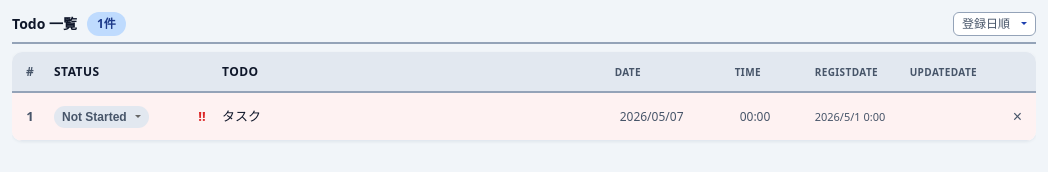
Test: TodoTable - date/time auto-format and validation (US-016) › auto-formats hhmm to hh:mm on blur
Replace the text in the 2nd field with "1430" at (769, 117), box x1=735 y1=103 x2=803 y2=130
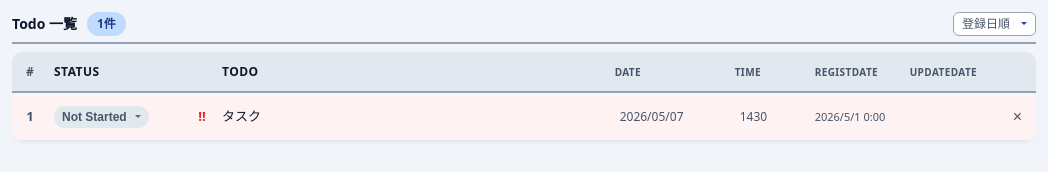
Leave the 2nd field, box x1=735 y1=103 x2=803 y2=130
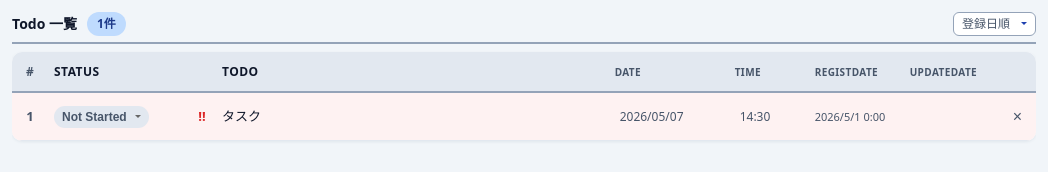
Check: the 2nd field holds "14:30", box x1=735 y1=103 x2=803 y2=130
